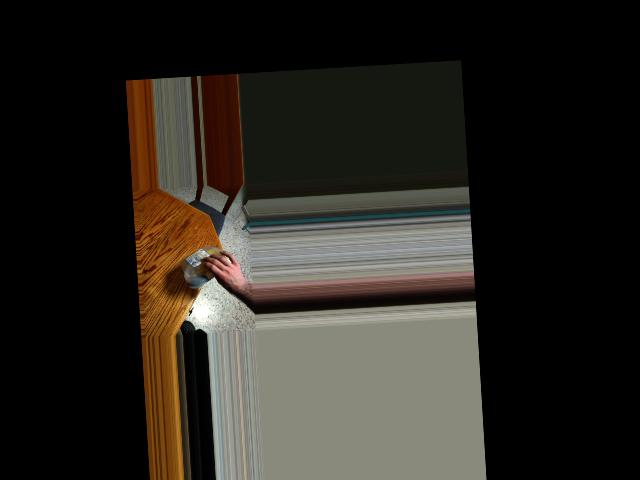cheese: (183, 246, 225, 277)
